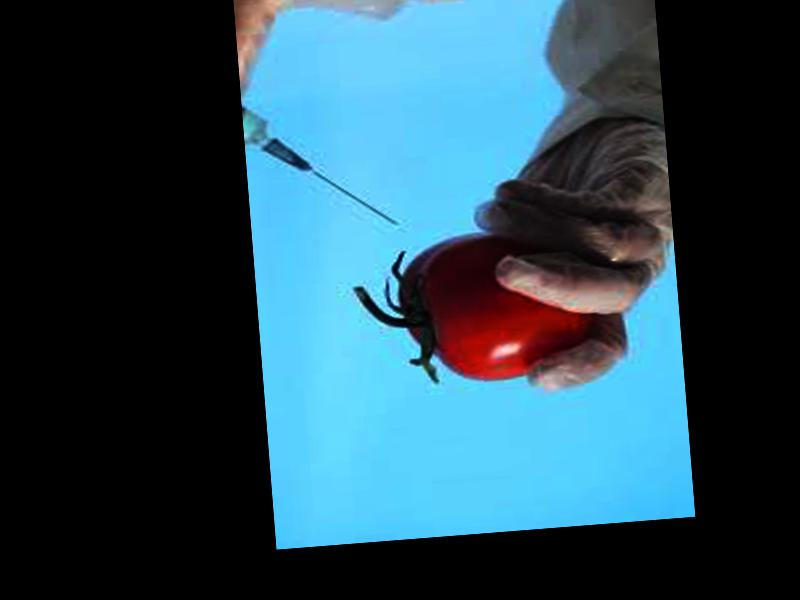Tomato: (395, 227, 599, 388)
